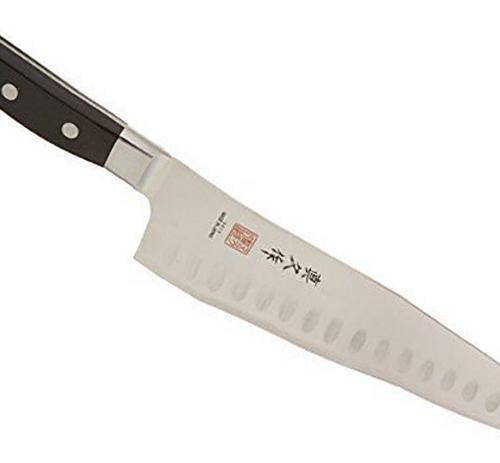knife: (1, 33, 500, 428)
